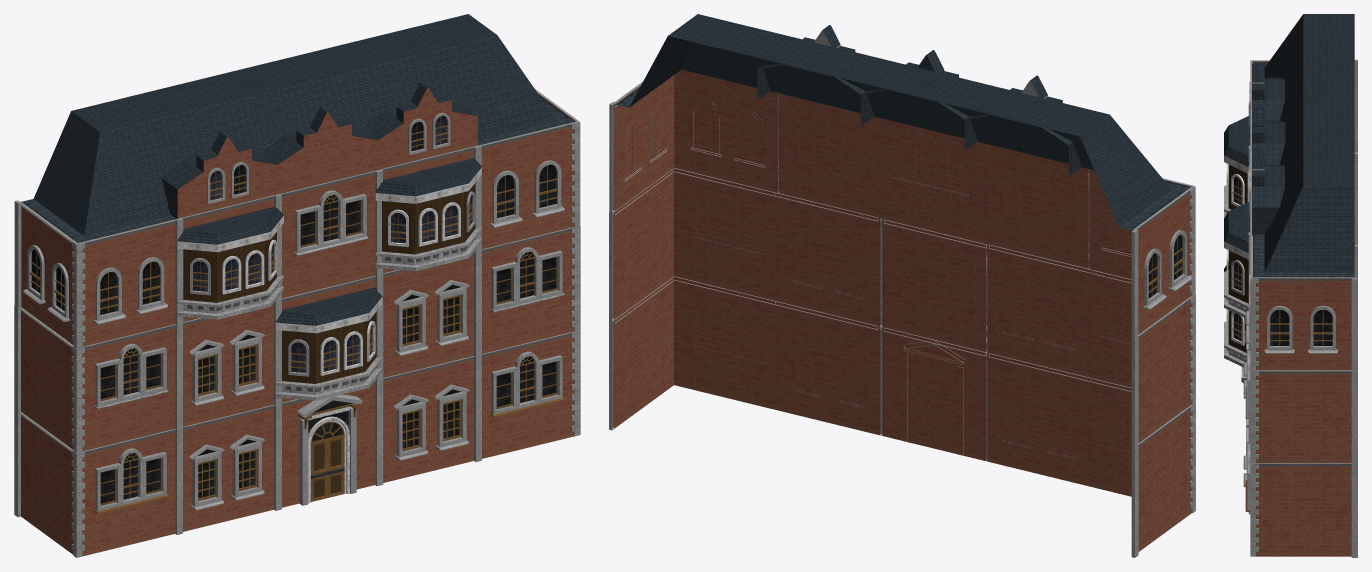
The model's file is Mansion.001_House.001a.fbx.
The picture shows the model from 3 angles, left to right: view 1: azimuth 30°, elevation 25°; view 2: azimuth 150°, elevation 25°; view 3: azimuth 270°, elevation 25°; orthographic projection. The views are drawn at different scales.
Parts seen in each view (by area): view 1: Mansion001_House_001; view 2: Mansion001_House_001; view 3: Mansion001_House_001.
Part boxes in pixels (box(x1,y1,x2,y2)): Mansion001_House_001: box(14, 14, 580, 557); Mansion001_House_001: box(609, 14, 1195, 557); Mansion001_House_001: box(1224, 14, 1357, 557).
Size of the model in its own units: 2047 by 1494 by 520.
